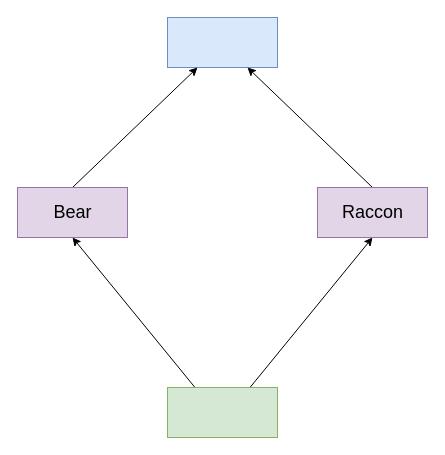
Image size: 445x455. Some labels were removed from this diagram. The shapes that lost their labels are listed below. From the top down, each one's centre as x and y in pixels, then its label:
pixel 222 42: ZooAnimal
pixel 222 412: Panda
